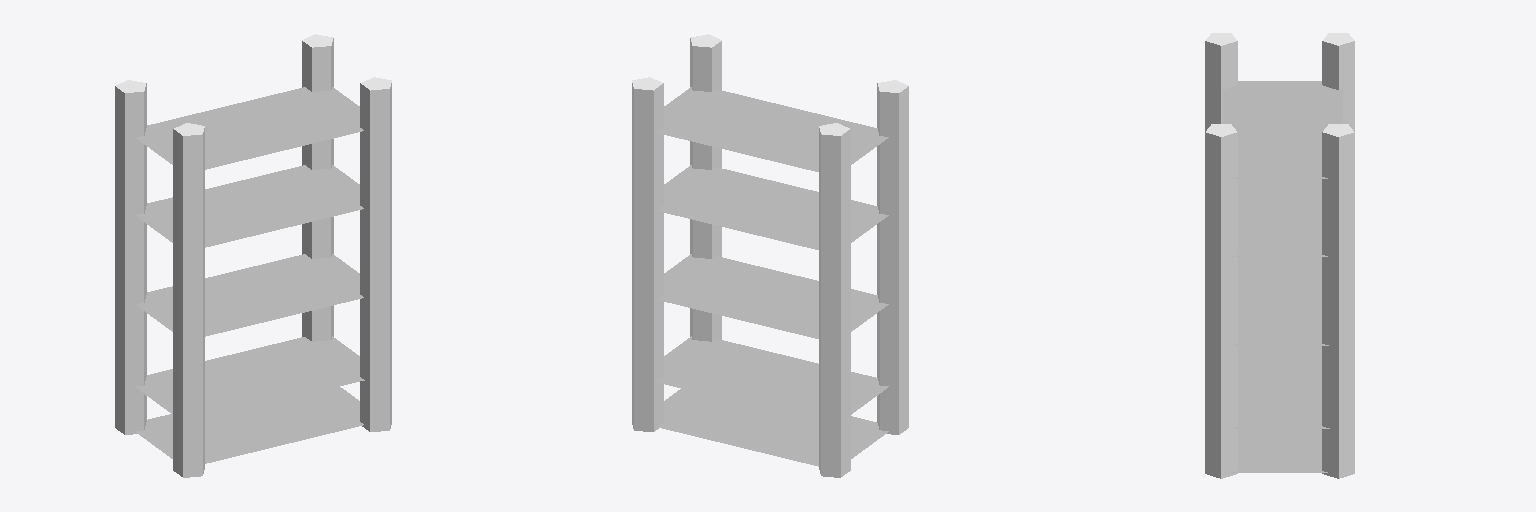
The model's file is rek2.obj.
3 renders of one model, left to right at view 1: azimuth 30°, elevation 25°; view 2: azimuth 150°, elevation 25°; view 3: azimuth 270°, elevation 25°, orthographic.
Parts seen in each view (by area): view 1: group6 pasted__pCylinder3, group6 pasted__pCylinder4, group6 pasted__pCylinder2, group6 pasted__pPlane4, group6 pasted__pPlane3, group6 pasted__pPlane1, group6 pasted__pPlane2, group6 pPlane1, pasted__pCylinder1 group6; view 2: group6 pasted__pCylinder2, pasted__pCylinder1 group6, group6 pasted__pCylinder3, group6 pasted__pPlane4, group6 pasted__pPlane1, group6 pasted__pPlane2, group6 pasted__pPlane3, group6 pPlane1, group6 pasted__pCylinder4; view 3: pasted__pCylinder1 group6, group6 pasted__pCylinder4, group6 pasted__pPlane4, group6 pasted__pPlane2, group6 pasted__pPlane1, group6 pasted__pPlane3, group6 pPlane1, group6 pasted__pCylinder3, group6 pasted__pCylinder2.
Part boxes in pixels (left/top/right/bottom): group6 pasted__pCylinder3: left=173, top=123, right=204, bottom=477; group6 pasted__pCylinder4: left=360, top=77, right=391, bottom=431; group6 pasted__pCylinder2: left=115, top=80, right=146, bottom=434; group6 pasted__pPlane4: left=135, top=87, right=363, bottom=169; group6 pasted__pPlane3: left=135, top=165, right=363, bottom=247; group6 pasted__pPlane1: left=135, top=336, right=364, bottom=418; group6 pasted__pPlane2: left=135, top=254, right=363, bottom=336; group6 pPlane1: left=135, top=387, right=363, bottom=463; pasted__pCylinder1 group6: left=302, top=34, right=333, bottom=341; group6 pasted__pCylinder2: left=819, top=123, right=850, bottom=477; pasted__pCylinder1 group6: left=632, top=77, right=663, bottom=431; group6 pasted__pCylinder3: left=877, top=80, right=908, bottom=434; group6 pasted__pPlane4: left=657, top=87, right=888, bottom=171; group6 pasted__pPlane1: left=657, top=336, right=888, bottom=421; group6 pasted__pPlane2: left=657, top=254, right=888, bottom=338; group6 pasted__pPlane3: left=657, top=165, right=888, bottom=249; group6 pPlane1: left=657, top=389, right=888, bottom=466; group6 pasted__pCylinder4: left=690, top=34, right=721, bottom=341; pasted__pCylinder1 group6: left=1322, top=124, right=1354, bottom=478; group6 pasted__pCylinder4: left=1205, top=124, right=1237, bottom=478; group6 pasted__pPlane4: left=1223, top=81, right=1342, bottom=178; group6 pasted__pPlane2: left=1231, top=257, right=1328, bottom=345; group6 pasted__pPlane1: left=1230, top=346, right=1329, bottom=428; group6 pasted__pPlane3: left=1232, top=179, right=1327, bottom=256; group6 pPlane1: left=1232, top=429, right=1327, bottom=472; group6 pasted__pCylinder3: left=1205, top=33, right=1237, bottom=131; group6 pasted__pCylinder2: left=1322, top=33, right=1354, bottom=131.
Bounding box in the file's own units: 9.25 × 14.14 × 5.6.